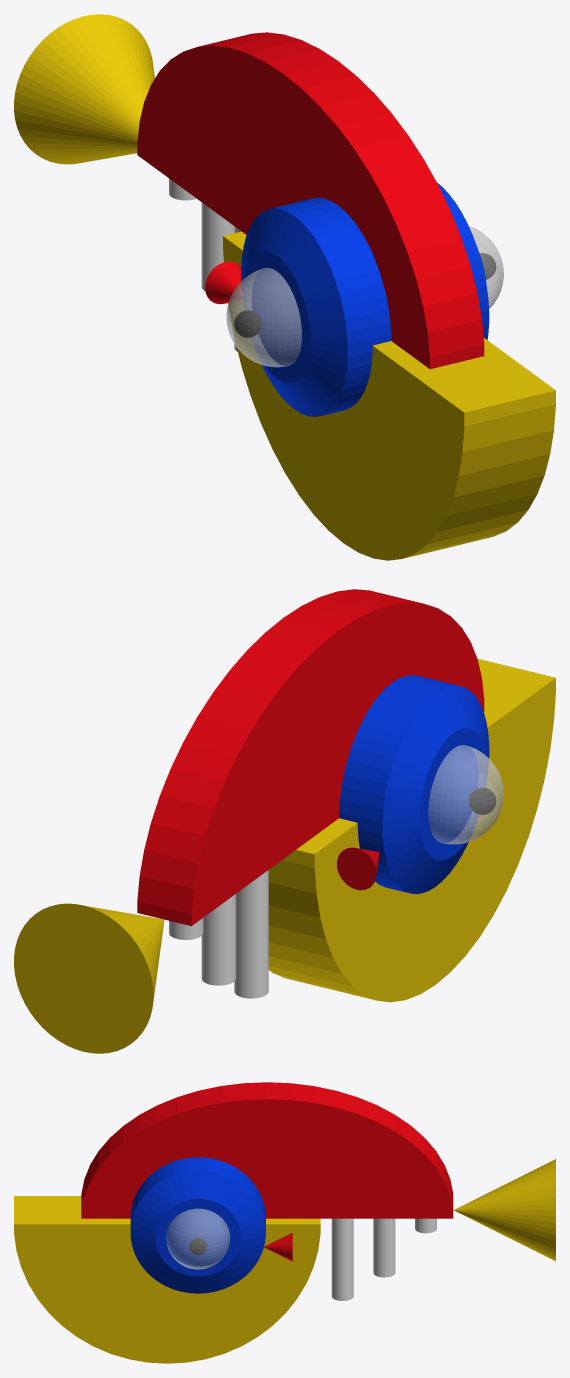
Rendered from TEI_fish.fbx.
3 views of the same model, one above another, from view 1: azimuth 30°, elevation 25°; view 2: azimuth 150°, elevation 25°; view 3: azimuth 270°, elevation 25° (orthographic). The views are drawn at different scales.
Parts seen in each view (by area): view 1: Fish_Body, Fish_Mouth, Fish_EyeBase, Cone, Fish_Eyeball_L, Cylinder, Cone.001, Fish_Eyeball_R, Fish_Pupil_R; view 2: Fish_Body, Fish_Mouth, Fish_EyeBase, Cone, Cylinder, Fish_Eyeball_L, Cone.001, Fish_Pupil_R; view 3: Fish_Body, Fish_Mouth, Fish_EyeBase, Cone, Cylinder, Fish_Eyeball_R, Cone.001.
Part boxes in pixels (box(x1,y1,x2,y2)): Fish_Body: box(137, 32, 484, 369); Fish_Mouth: box(223, 231, 555, 560); Fish_EyeBase: box(241, 182, 489, 416); Cone: box(14, 14, 154, 164); Fish_Eyeball_L: box(226, 267, 301, 367); Cylinder: box(169, 178, 241, 351); Cone.001: box(205, 261, 242, 304); Fish_Eyeball_R: box(469, 226, 503, 309); Fish_Pupil_R: box(234, 253, 496, 337); Fish_Body: box(137, 589, 484, 925); Fish_Mouth: box(268, 658, 555, 1002); Fish_EyeBase: box(339, 675, 489, 894); Cone: box(14, 903, 164, 1053); Cylinder: box(169, 870, 268, 998); Fish_Eyeball_L: box(428, 745, 503, 844); Cone.001: box(337, 847, 379, 890); Fish_Pupil_R: box(469, 787, 496, 814); Fish_Body: box(81, 1082, 453, 1218); Fish_Mouth: box(14, 1196, 320, 1363); Fish_EyeBase: box(130, 1157, 265, 1293); Cone: box(454, 1159, 555, 1261); Cylinder: box(331, 1218, 436, 1300); Fish_Eyeball_R: box(166, 1208, 230, 1269); Cone.001: box(264, 1233, 292, 1261).
Bounding box in the file's own units: 104 × 153 × 291.
